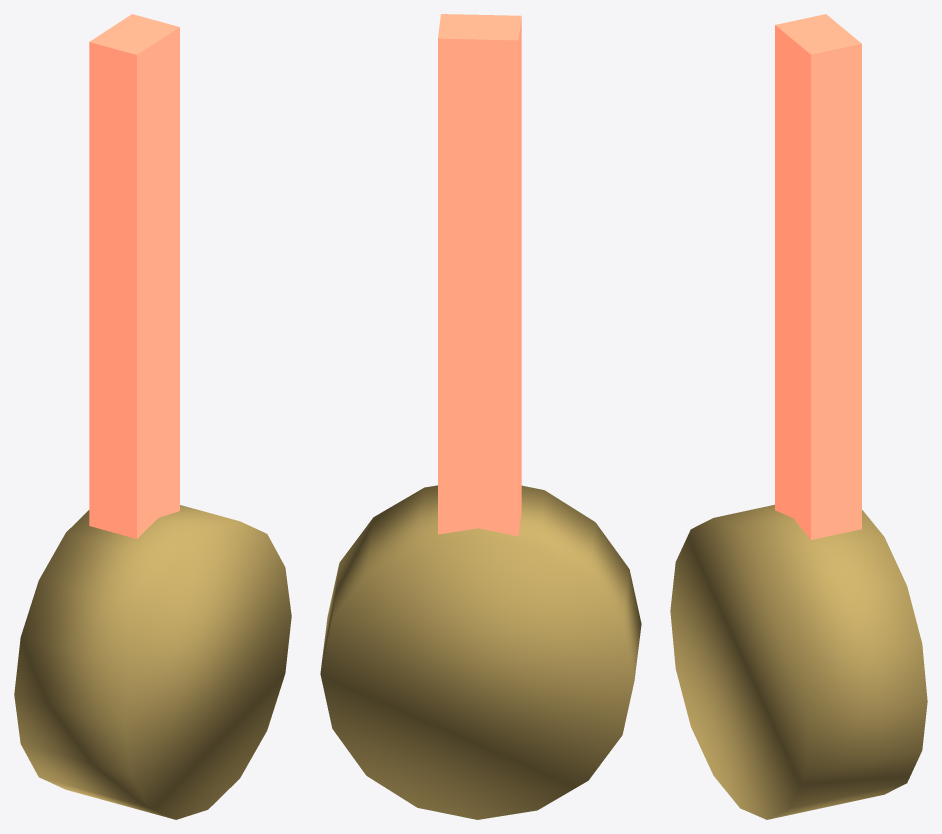
File: poll.glb
3 renders of one model, left to right at view 1: azimuth 30°, elevation 25°; view 2: azimuth 150°, elevation 25°; view 3: azimuth 270°, elevation 25°, orthographic. The views are drawn at different scales.
Visible parts, largest first — view 1: ota_poll_hub, ota_poll_needle; view 2: ota_poll_hub, ota_poll_needle; view 3: ota_poll_hub, ota_poll_needle.
Boxes of the visible parts, left/top/right/bottom form: ota_poll_hub: left=14, top=505, right=291, bottom=819; ota_poll_needle: left=89, top=14, right=179, bottom=538; ota_poll_hub: left=320, top=485, right=641, bottom=819; ota_poll_needle: left=438, top=14, right=521, bottom=536; ota_poll_hub: left=670, top=504, right=927, bottom=819; ota_poll_needle: left=775, top=14, right=861, bottom=539.
Size of the model in its own units: 0.0152 by 0.038 by 0.0117.
